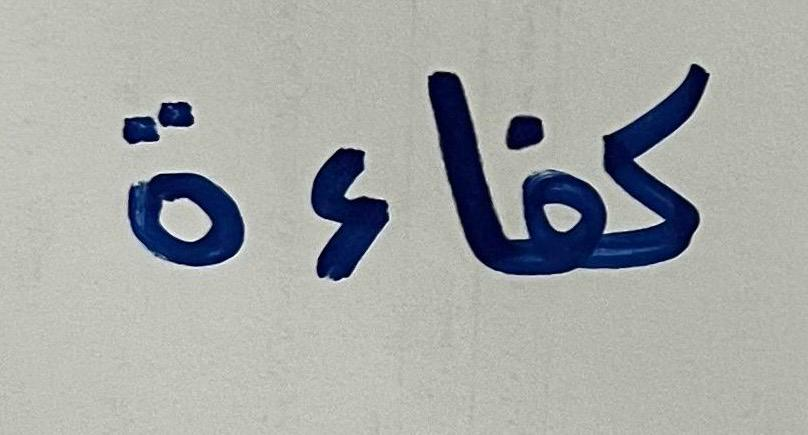alef: (404, 41, 497, 343)
feh: (501, 90, 602, 336)
hamza: (277, 79, 401, 324)
kaf: (604, 54, 741, 333)
teh_marbota: (93, 43, 269, 334)
